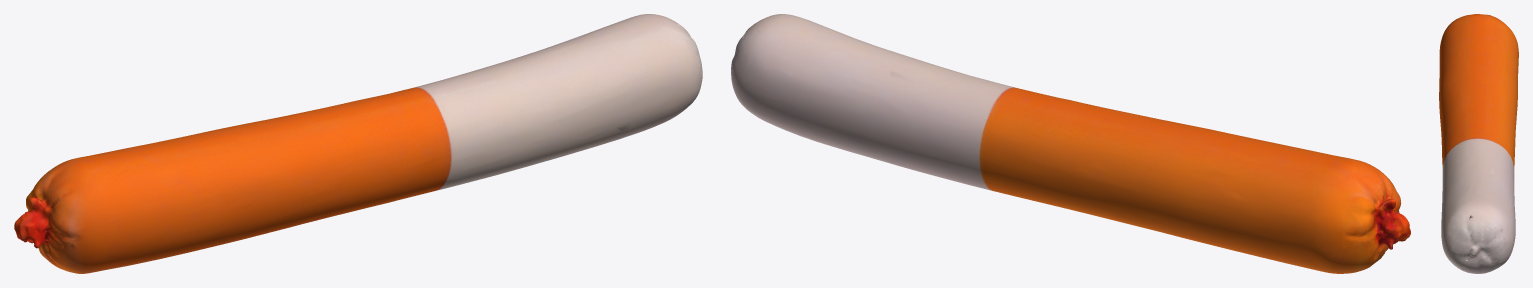
File: Meshy_AI_Two_Tone_Sausage_0606060234_texture.glb
3 renders of one model, left to right at view 1: azimuth 30°, elevation 25°; view 2: azimuth 150°, elevation 25°; view 3: azimuth 270°, elevation 25°, orthographic. The views are drawn at different scales.
Bounding box in the file's own units: 2 × 0.3183 × 0.2967.
Materials: 1 (1 with a texture image).
